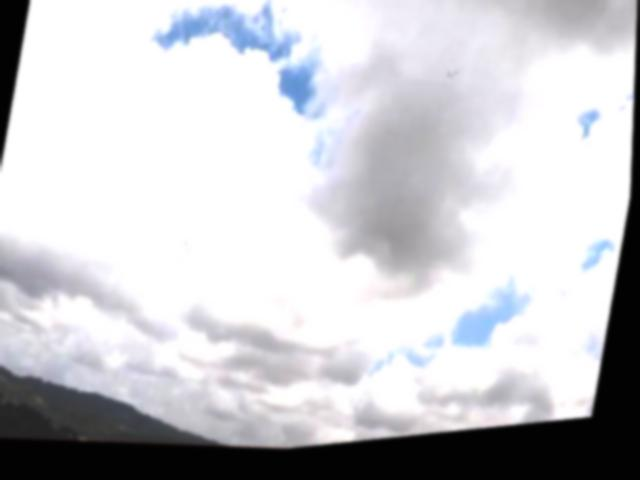iha: (444, 73, 462, 91)
